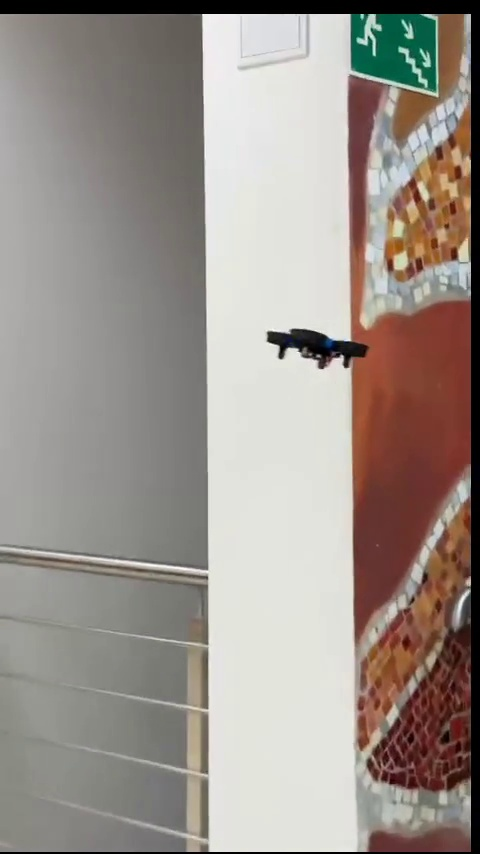drone: (267, 330, 373, 373)
